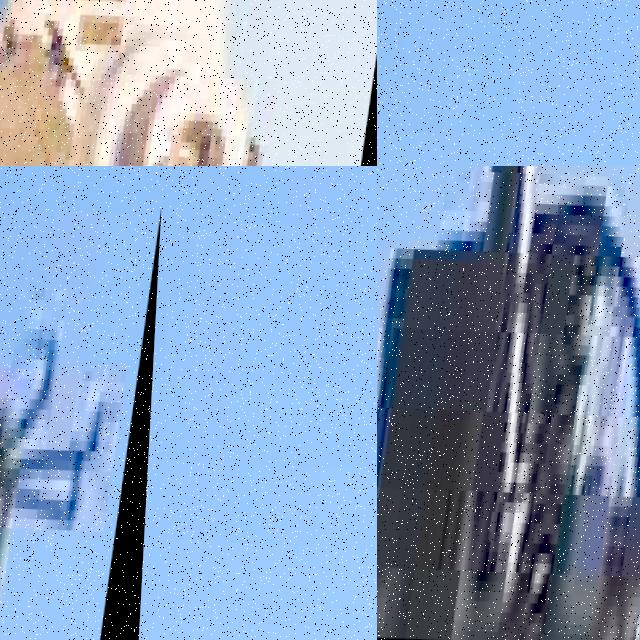0: (377, 166, 640, 640), (0, 193, 161, 640)
drone: (0, 0, 377, 166)
